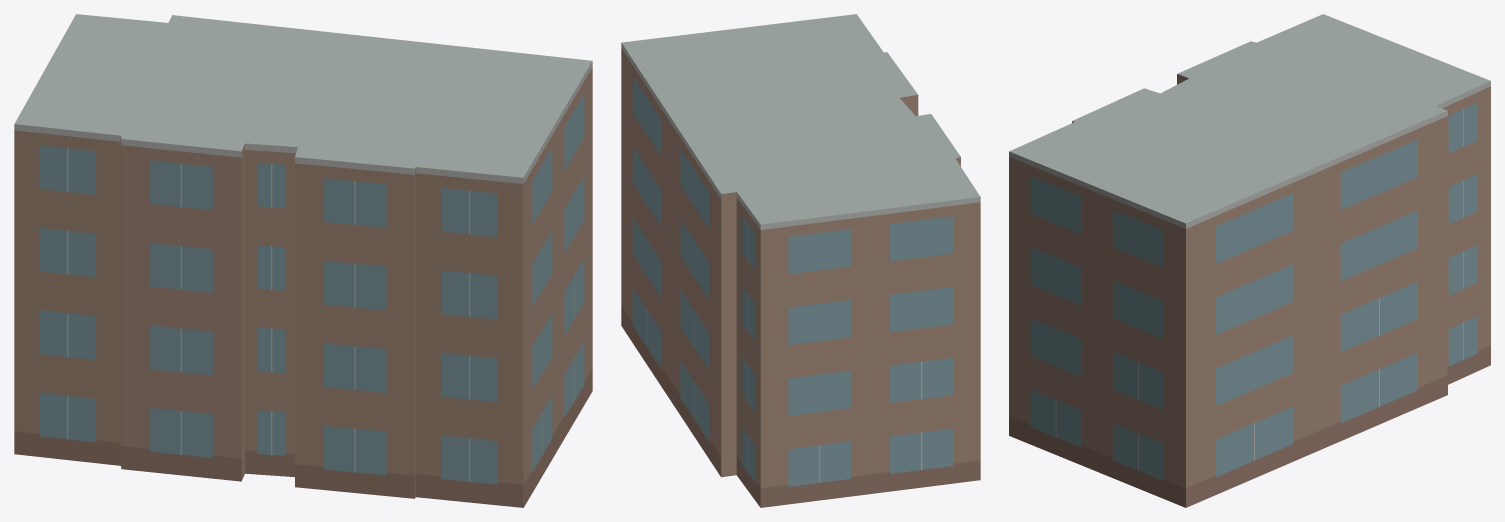
The model's file is survey-upis-32776879.glb.
3 renders of one model, left to right at view 1: azimuth 30°, elevation 25°; view 2: azimuth 150°, elevation 25°; view 3: azimuth 270°, elevation 25°, orthographic. The views are drawn at different scales.
Parts seen in each view (by area): view 1: survey-upis-32776879.tmp; view 2: survey-upis-32776879.tmp; view 3: survey-upis-32776879.tmp.
Boxes of the visible parts, x1,y1,x2,y2 form: survey-upis-32776879.tmp: (14,14,592,507); survey-upis-32776879.tmp: (621,14,980,507); survey-upis-32776879.tmp: (1009,14,1490,507).
Size of the model in its own units: 20.39 by 12.9 by 19.82.
